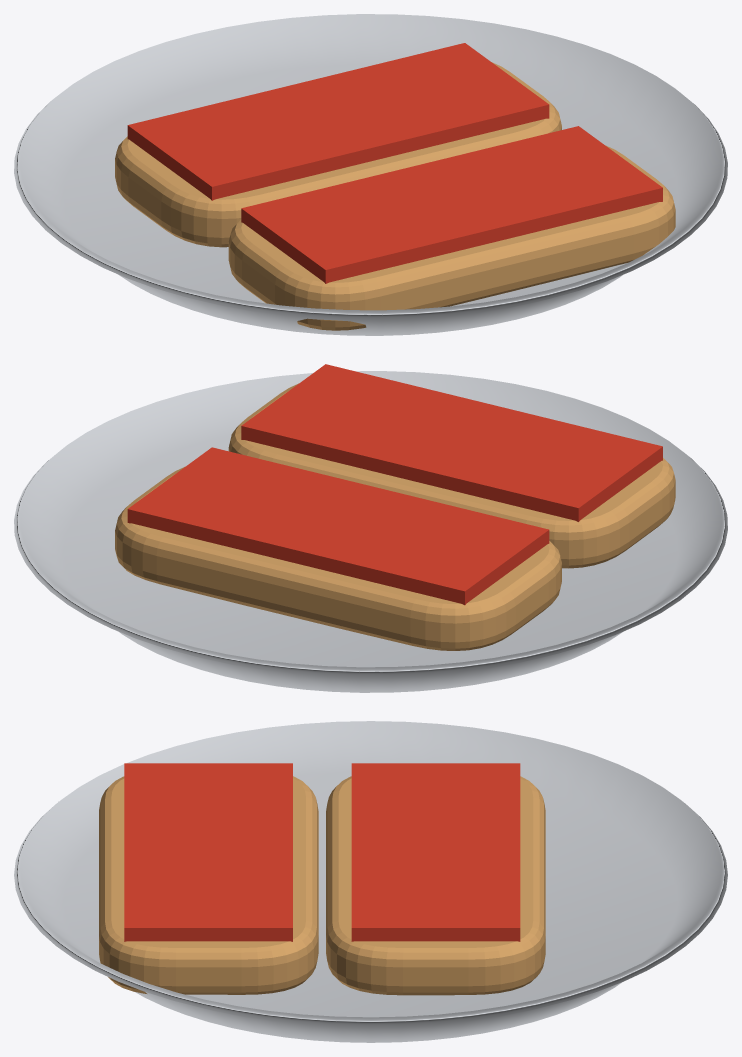
Rendered from mezzogiorno-pan-tomate.glb.
3 views of the same model, one above another, from view 1: azimuth 30°, elevation 25°; view 2: azimuth 150°, elevation 25°; view 3: azimuth 270°, elevation 25° (orthographic).
Bounding box in the file's own units: 0.22 × 0.025 × 0.22.
